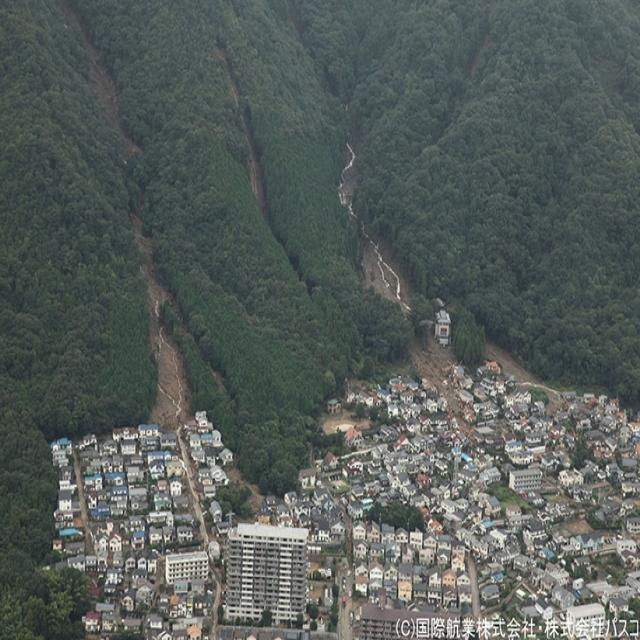Debris-flow: (130, 212, 190, 434), (338, 137, 410, 316), (64, 4, 140, 160), (215, 47, 270, 224)
